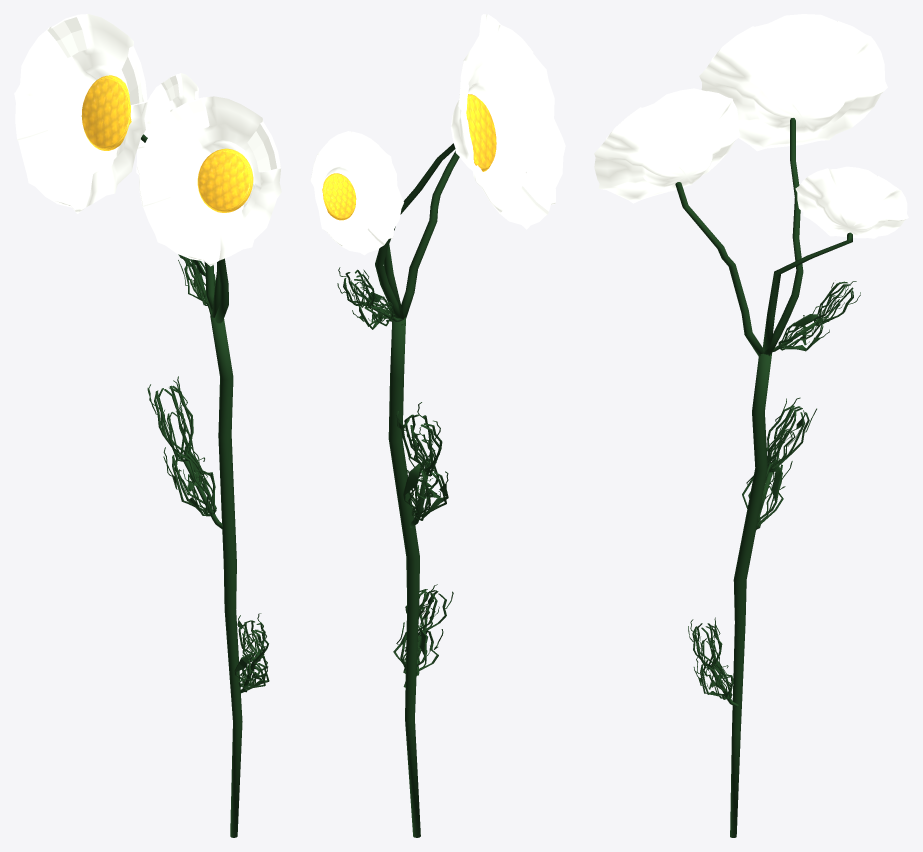
Rendered from cosmoswhitecp.glb.
3 views of the same model, side by side, from view 1: azimuth 30°, elevation 25°; view 2: azimuth 150°, elevation 25°; view 3: azimuth 270°, elevation 25° (orthographic). The views are drawn at different scales.
Parts seen in each view (by area): view 1: flower; view 2: flower; view 3: flower.
Boxes of the visible parts, x1=… form: flower: x1=14, y1=14, x2=281, y2=837; flower: x1=310, y1=14, x2=565, y2=837; flower: x1=594, y1=14, x2=908, y2=837.
Bounding box in the file's own units: 1.09 × 4.64 × 1.7.
Materials: 3 (1 with a texture image).
